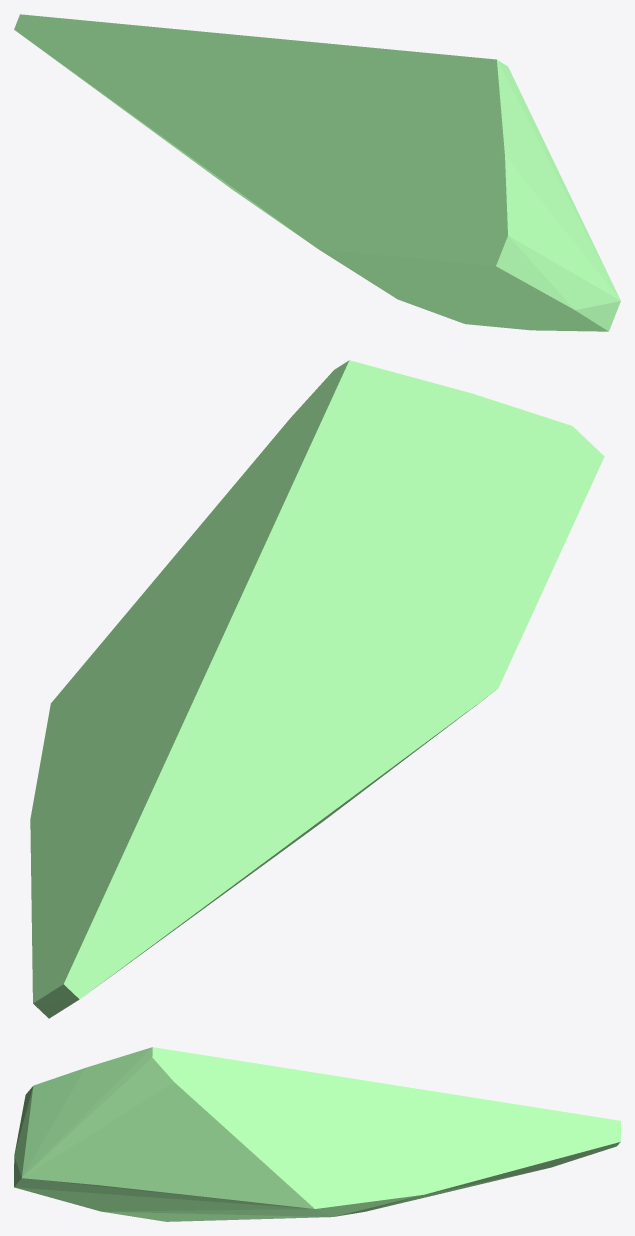
Rendered from palle_scrotali_buone_Lp2_respondable_PSM2_coll_1.dae.
3 views of the same model, one above another, from view 1: azimuth 30°, elevation 25°; view 2: azimuth 150°, elevation 25°; view 3: azimuth 270°, elevation 25° (orthographic). The views are drawn at different scales.
Visible parts, largest first — view 1: Node_000002334E244E00; view 2: Node_000002334E244E00; view 3: Node_000002334E244E00.
Boxes of the visible parts, left/top/right/bottom form: Node_000002334E244E00: left=14, top=14, right=620, bottom=331; Node_000002334E244E00: left=30, top=360, right=604, bottom=1018; Node_000002334E244E00: left=14, top=1047, right=620, bottom=1221.
Bounding box in the file's own units: 0.0385 × 0.0404 × 0.122.
